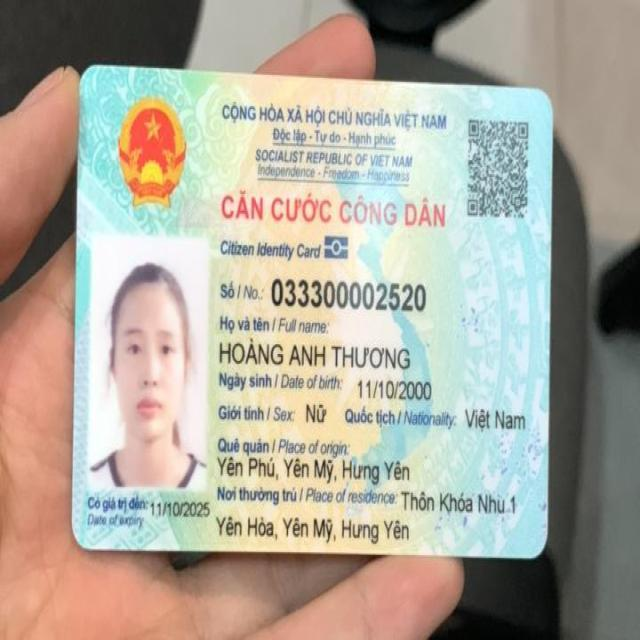bottom_left: (58, 514, 106, 563)
bottom_right: (512, 525, 558, 574)
image_person: (90, 236, 212, 492)
top_left: (64, 52, 112, 102)
top_right: (521, 76, 564, 120)
